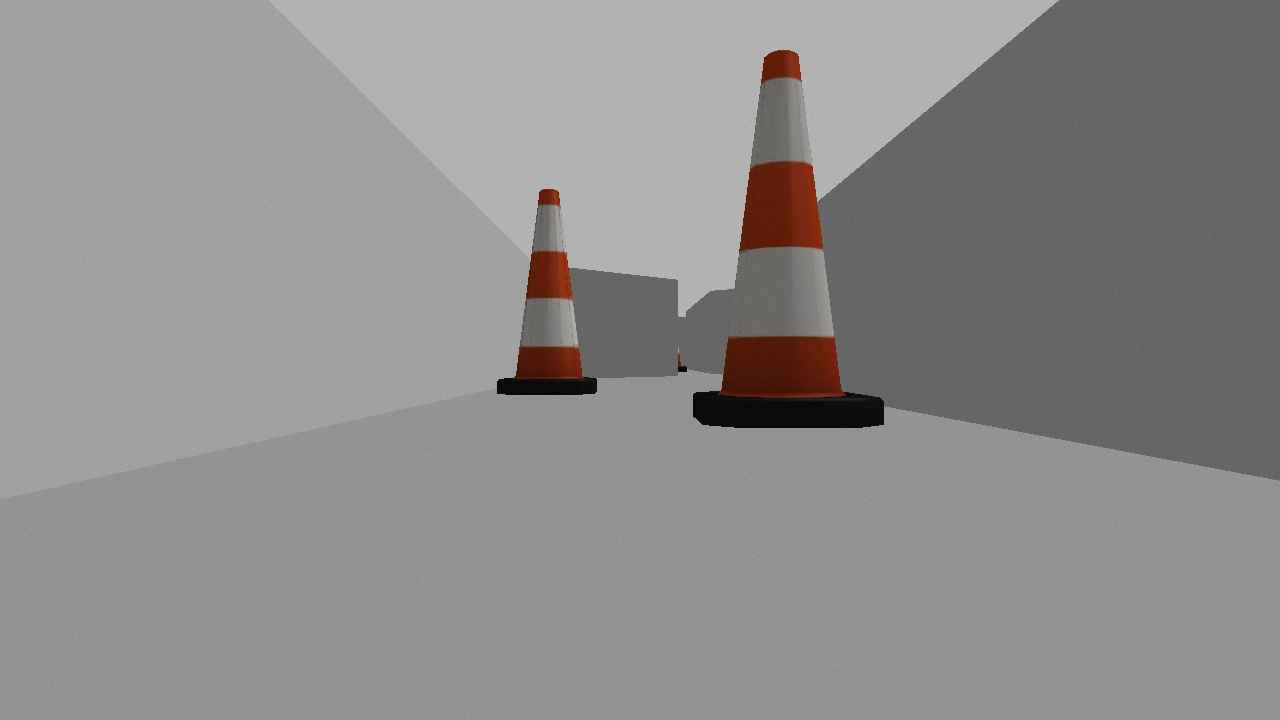barricade: (689, 47, 887, 429), (496, 187, 596, 397)
